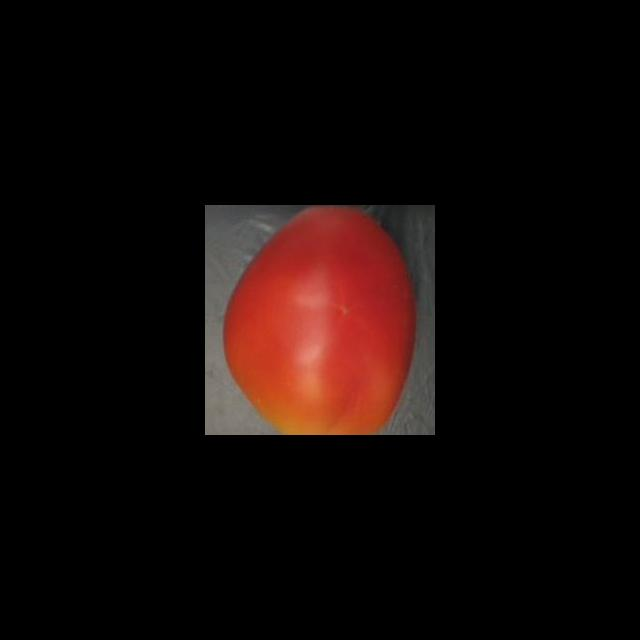tomato: (219, 206, 420, 435)
